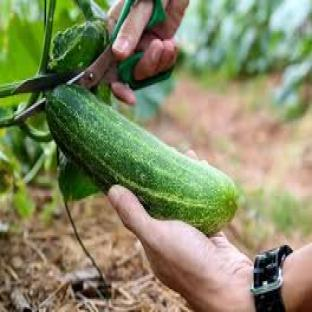Cucumber: (47, 85, 238, 233), (49, 20, 108, 73)
